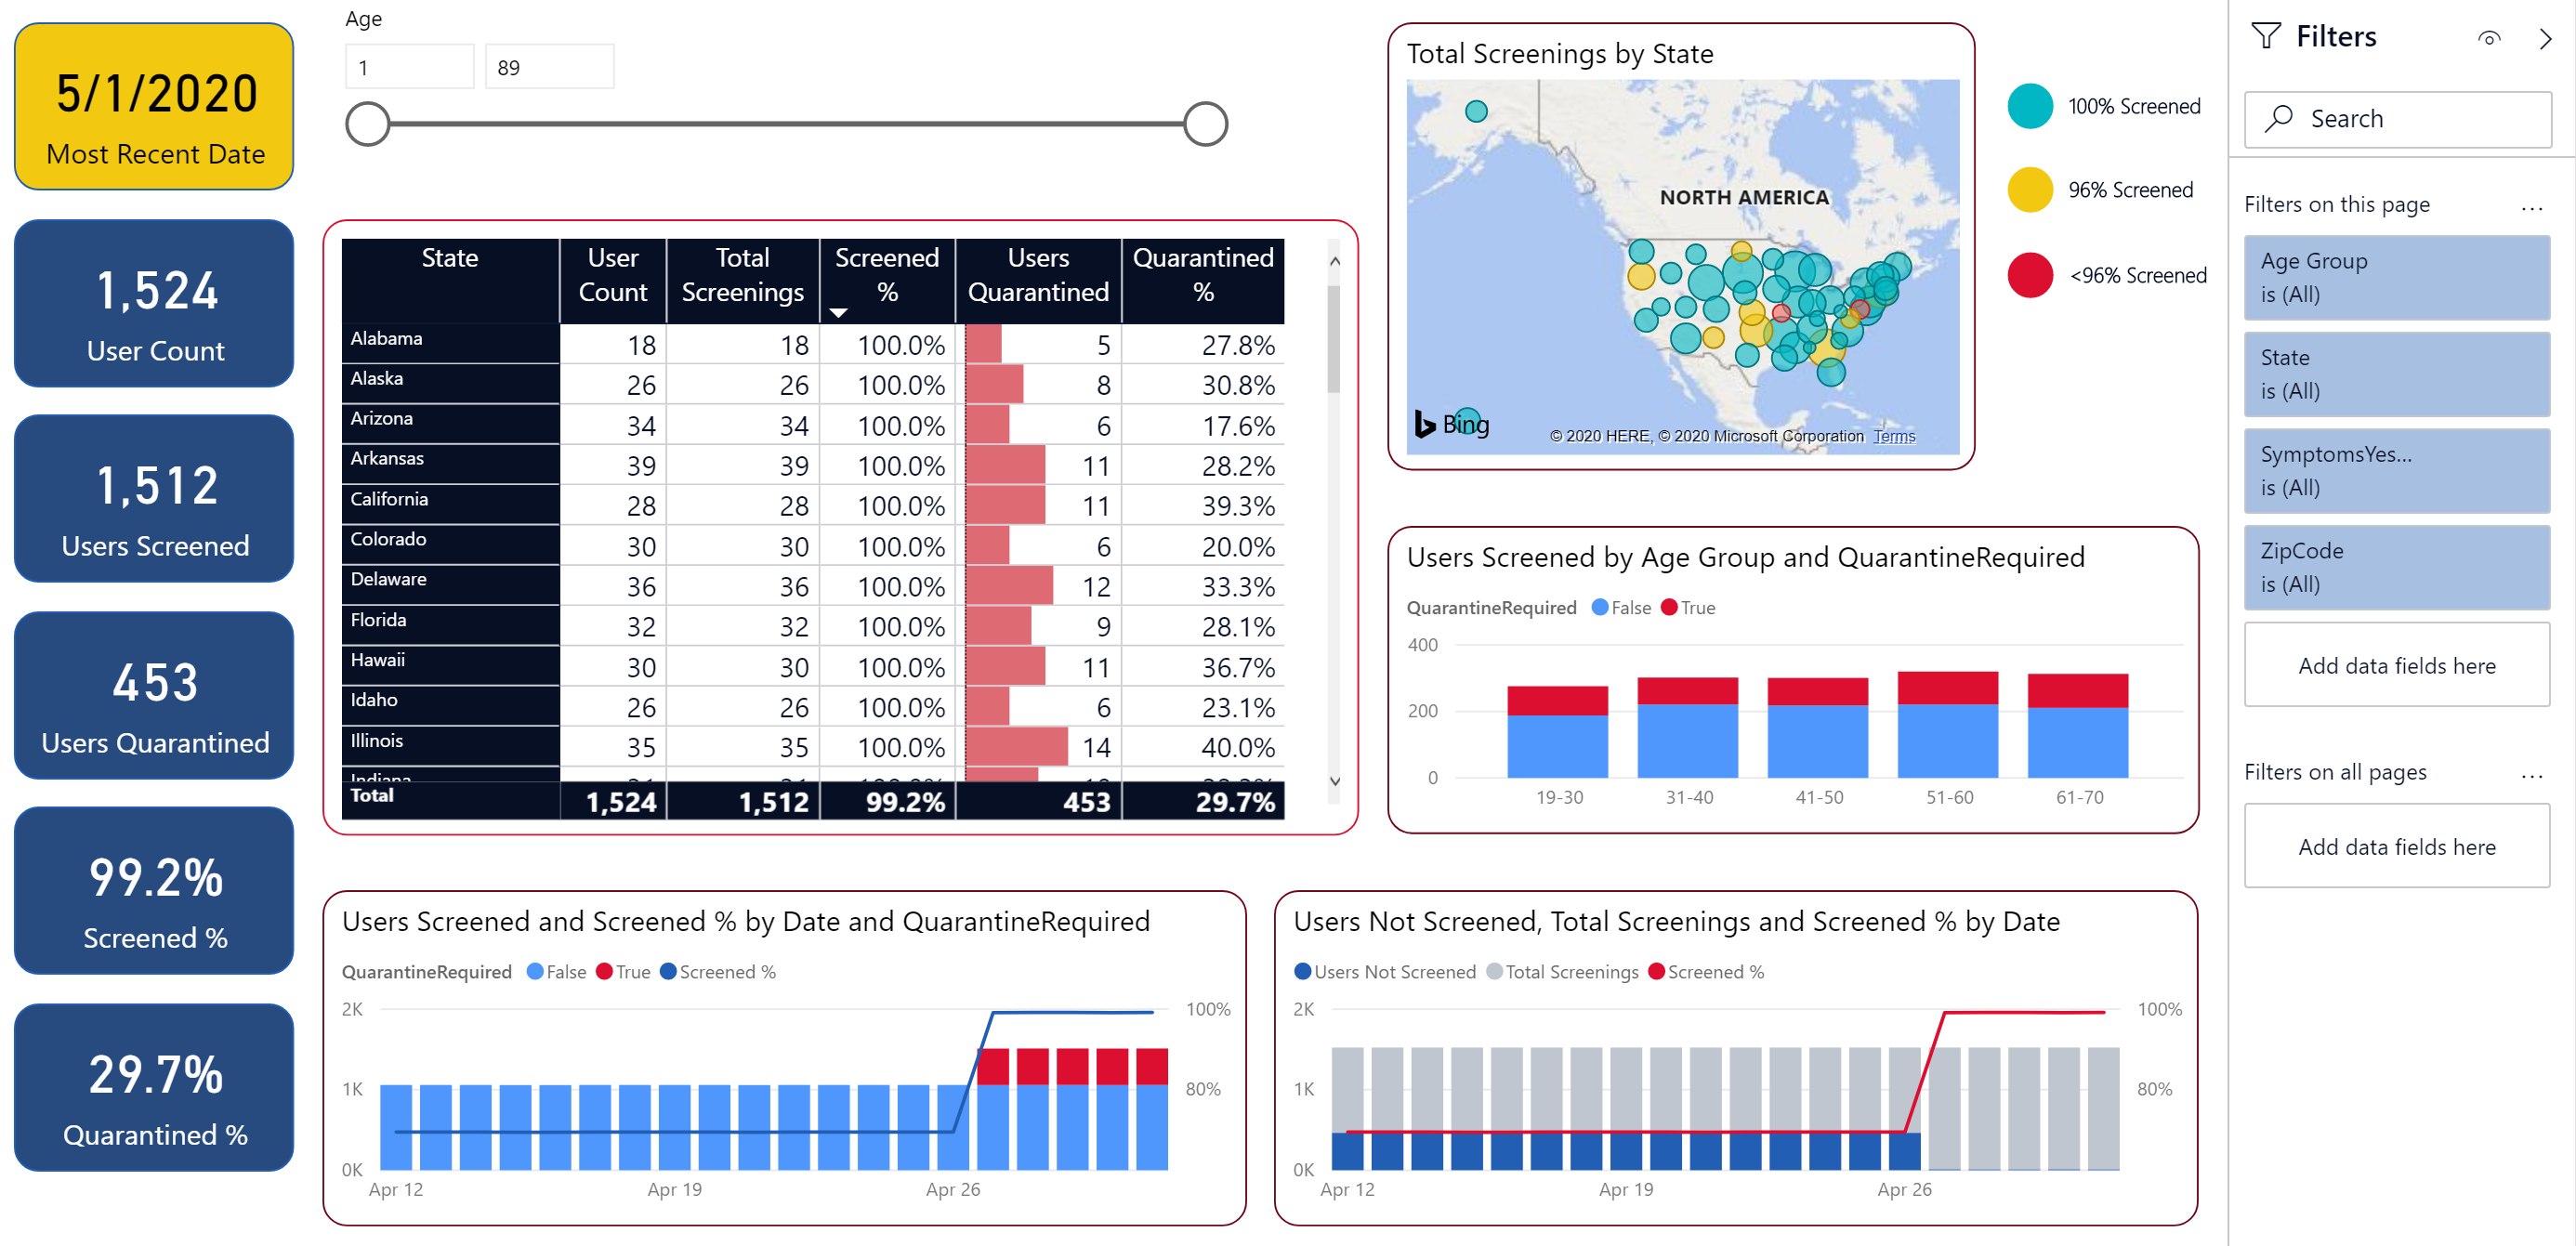

What the dashboard file says about the page in this screenshot:
{"tool":"powerbi","page":{"name":"Screenings","canvas":[1280,820],"ordinal":1},"visuals":[{"type":"lineStackedColumnComboChart","fields":{"Y":["Calculations.Users Screened","Calculations.Missed Screenings"],"Category":["Date.Date"],"Y2":["Calculations.Screened %"]},"box":[432,448,464,352],"z":0},{"type":"filledMap","fields":{"Category":["UserInfo.State","UserInfo.ZipCode"]},"box":[16,448,400,336],"z":1000},{"type":"basicShape","box":[21.4,781.5,32,32],"z":2000},{"type":"basicShape","box":[155,781.5,32,32],"z":3000},{"type":"basicShape","box":[283,781.5,32,32],"z":4000},{"type":"textbox","box":[53.4,781.5,112,32],"z":5000},{"type":"textbox","box":[187,781.5,112,32],"z":6000},{"type":"textbox","box":[315,781.5,112,32],"z":7000},{"type":"lineStackedColumnComboChart","fields":{"Y":["Calculations.Users Screened"],"Y2":["Calculations.Screened %"],"Category":["UserInfo.Role"]},"box":[864,208,400,224],"z":8000},{"type":"textbox","box":[192,0,1072,80],"z":9000},{"type":"pivotTable","fields":{"Values":["Calculations.User Count","Calculations.Screened %","Calculations.Missed Screenings","Calculations.Users Quarantined"],"Rows":["UserInfo.Role","UserInfo.State","UserInfo.ZipCode"]},"box":[256,208,592,224],"z":10000},{"type":"slicer","fields":{"Values":["Age Groups.Age Group"]},"box":[16,208,224,96],"z":11000},{"type":"slicer","fields":{"Values":["UserInfo.State"]},"box":[16,336,224,96],"z":12000},{"type":"pivotTable","title":"Locations with Missed Screenings (Drill for Employee Details)","fields":{"Values":["Calculations.Missed Screenings"],"Rows":["UserInfo.State"]},"box":[912,448,352,352],"z":13000},{"type":"card","fields":{"Values":["Calculations.User Count"]},"box":[16,80,176,96],"z":14000},{"type":"card","fields":{"Values":["Calculations.Users Quarrantined"]},"box":[432,80,176,96],"z":15000},{"type":"card","fields":{"Values":["Calculations.Screened %"]},"box":[224,80,176,96],"z":16000},{"type":"card","fields":{"Values":["Calculations.Quarantined %"]},"box":[640,80,176,96],"z":17000},{"type":"card","fields":{"Values":["Calculations.Positive Antibody %"]},"box":[1072,80,192,96],"z":18000},{"type":"card","fields":{"Values":["Calculations.Positive Antibody Tests"]},"box":[848,80,192,96],"z":19000}]}

Visuals, with their boxes on the page's 1280x820 design canvas (x1, y1, x2, y2). These are canvas units, not pixel positions in the 2576x1246 screenshot, which may show the page scaled, cropped or inside an application window:
lineStackedColumnComboChart - Calculations.Users Screened x Calculations.Missed Screenings: [432, 448, 896, 800]
filledMap - UserInfo.State x UserInfo.ZipCode: [16, 448, 416, 784]
basicShape: [21, 782, 53, 814]
basicShape: [155, 782, 187, 814]
basicShape: [283, 782, 315, 814]
textbox: [53, 782, 165, 814]
textbox: [187, 782, 299, 814]
textbox: [315, 782, 427, 814]
lineStackedColumnComboChart - Calculations.Users Screened x Calculations.Screened %: [864, 208, 1264, 432]
textbox: [192, 0, 1264, 80]
pivotTable - Calculations.User Count x Calculations.Screened %: [256, 208, 848, 432]
slicer - Age Groups.Age Group: [16, 208, 240, 304]
slicer - UserInfo.State: [16, 336, 240, 432]
"Locations with Missed Screenings (Drill for Employee Details)" pivotTable: [912, 448, 1264, 800]
card - Calculations.User Count: [16, 80, 192, 176]
card - Calculations.Users Quarrantined: [432, 80, 608, 176]
card - Calculations.Screened %: [224, 80, 400, 176]
card - Calculations.Quarantined %: [640, 80, 816, 176]
card - Calculations.Positive Antibody %: [1072, 80, 1264, 176]
card - Calculations.Positive Antibody Tests: [848, 80, 1040, 176]
